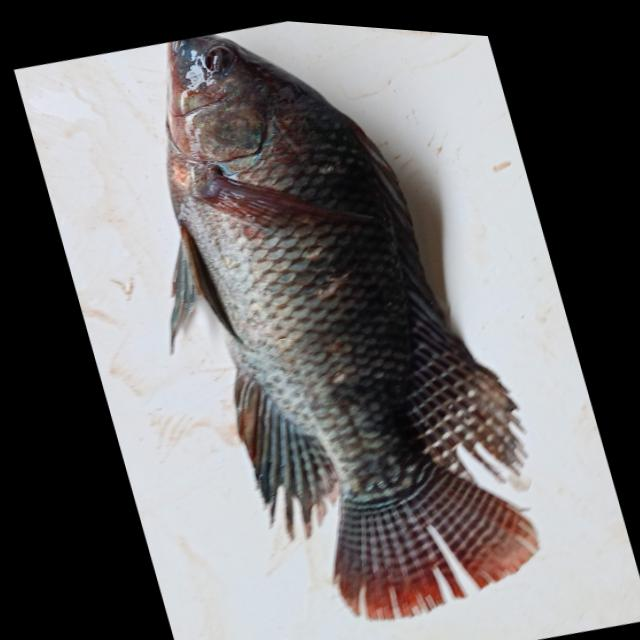Tilapia: (82, 6, 574, 640)
